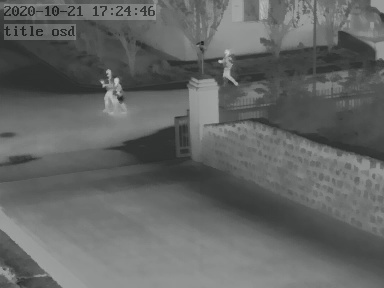person: (110, 78, 128, 114), (221, 48, 236, 86), (102, 69, 115, 110)
